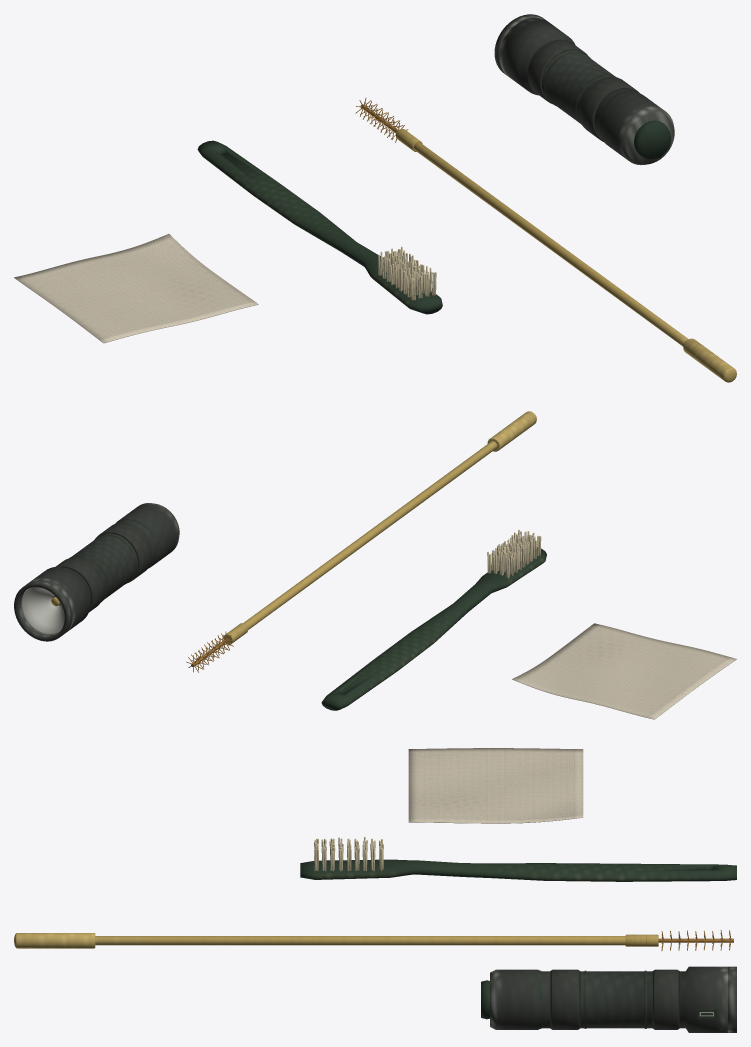
The model's file is active-tools.glb.
The picture shows the model from 3 angles, top to bottom: view 1: azimuth 30°, elevation 25°; view 2: azimuth 150°, elevation 25°; view 3: azimuth 270°, elevation 25°; orthographic projection. The views are drawn at different scales.
Parts seen in each view (by area): view 1: GEO-cloth-Tool_Cotton, GEO-flashlight-Tool_Anodized, GEO-brush-Tool_Enamel, GEO-rod-Tool_Brass, GEO-brush-Tool_Nylon, GEO-flashlight-Tool_Rubber, GEO-rod-Tool_Bronze; view 2: GEO-cloth-Tool_Cotton, GEO-flashlight-Tool_Anodized, GEO-brush-Tool_Enamel, GEO-rod-Tool_Brass, GEO-brush-Tool_Nylon, GEO-flashlight-Tool_Reflector, GEO-rod-Tool_Bronze; view 3: GEO-flashlight-Tool_Anodized, GEO-cloth-Tool_Cotton, GEO-brush-Tool_Enamel, GEO-rod-Tool_Brass, GEO-brush-Tool_Nylon, GEO-flashlight-Tool_Rubber, GEO-rod-Tool_Bronze.
Part boxes in pixels (x1=…): GEO-cloth-Tool_Cotton: x1=14, y1=234, x2=258, y2=343; GEO-flashlight-Tool_Anodized: x1=494, y1=14, x2=674, y2=165; GEO-brush-Tool_Enamel: x1=197, y1=140, x2=442, y2=314; GEO-rod-Tool_Brass: x1=396, y1=128, x2=736, y2=382; GEO-brush-Tool_Nylon: x1=378, y1=246, x2=436, y2=300; GEO-flashlight-Tool_Rubber: x1=544, y1=52, x2=671, y2=159; GEO-rod-Tool_Bronze: x1=355, y1=98, x2=408, y2=142; GEO-cloth-Tool_Cotton: x1=512, y1=623, x2=736, y2=719; GEO-flashlight-Tool_Anodized: x1=14, y1=503, x2=179, y2=641; GEO-brush-Tool_Enamel: x1=321, y1=548, x2=546, y2=710; GEO-rod-Tool_Brass: x1=223, y1=411, x2=536, y2=644; GEO-brush-Tool_Nylon: x1=487, y1=529, x2=541, y2=578; GEO-flashlight-Tool_Reflector: x1=21, y1=587, x2=64, y2=635; GEO-rod-Tool_Bronze: x1=186, y1=631, x2=234, y2=672; GEO-flashlight-Tool_Anodized: x1=490, y1=966, x2=736, y2=1032; GEO-cloth-Tool_Cotton: x1=408, y1=748, x2=583, y2=823; GEO-brush-Tool_Enamel: x1=300, y1=859, x2=736, y2=881; GEO-rod-Tool_Brass: x1=14, y1=933, x2=658, y2=948; GEO-brush-Tool_Nylon: x1=314, y1=837, x2=383, y2=871; GEO-flashlight-Tool_Rubber: x1=481, y1=970, x2=716, y2=1028; GEO-rod-Tool_Bronze: x1=658, y1=930, x2=733, y2=950.
Bounding box in the file's own units: 0.2314 × 0.022 × 0.24.
8 materials, 8 textured.
